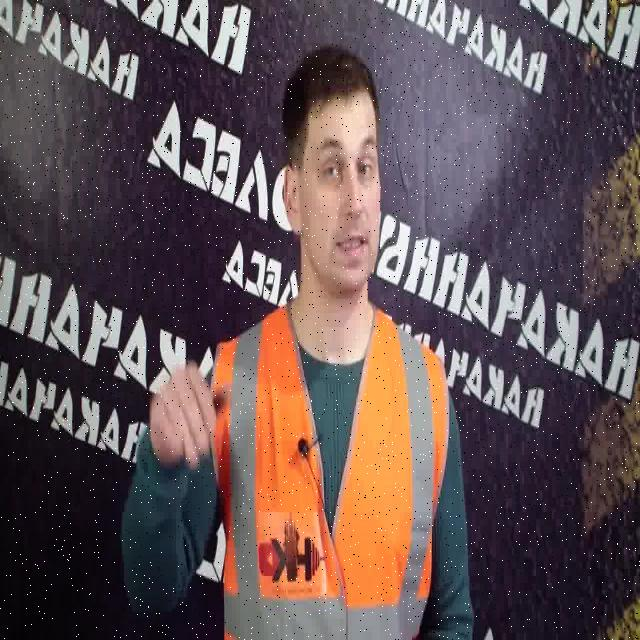Vest: (226, 320, 456, 620)
